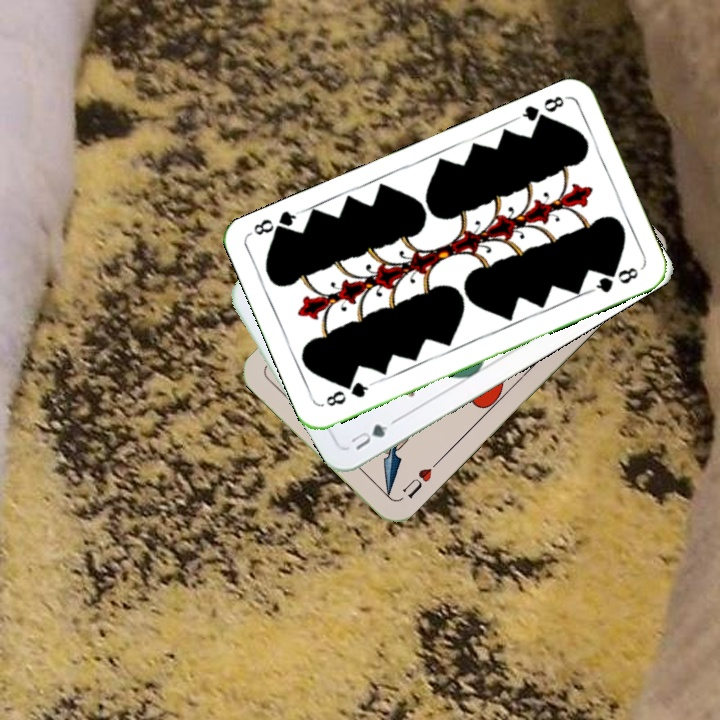G8: (512, 91, 569, 129), (321, 378, 375, 409)
GU: (346, 415, 399, 453)
HU: (398, 456, 442, 501)
